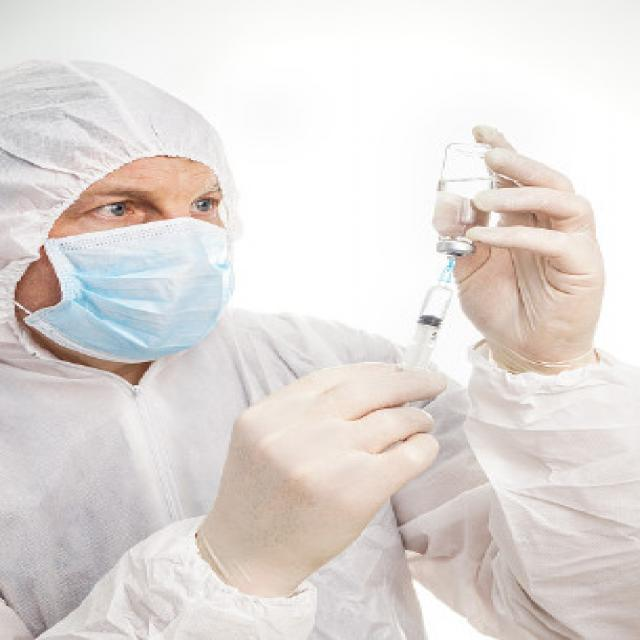mask: (34, 159, 222, 360)
